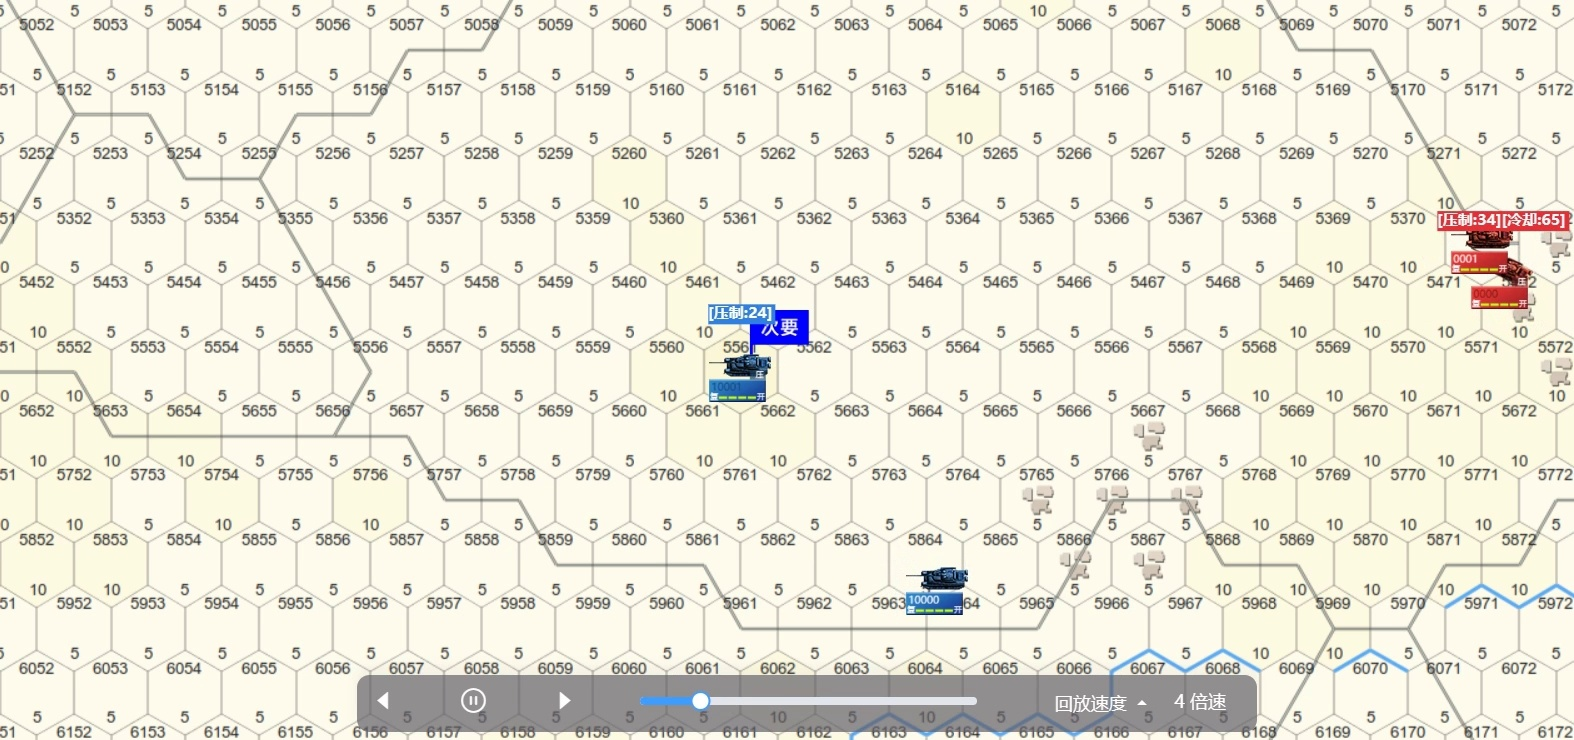blue_tank: (911, 567, 970, 616), (709, 350, 768, 399)
red_tank: (1454, 224, 1518, 271), (1477, 259, 1525, 310)
